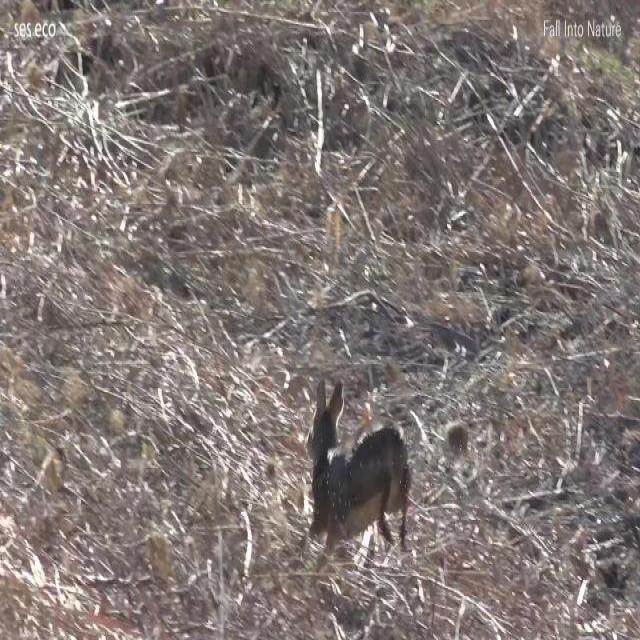deer: (305, 378, 412, 555)
